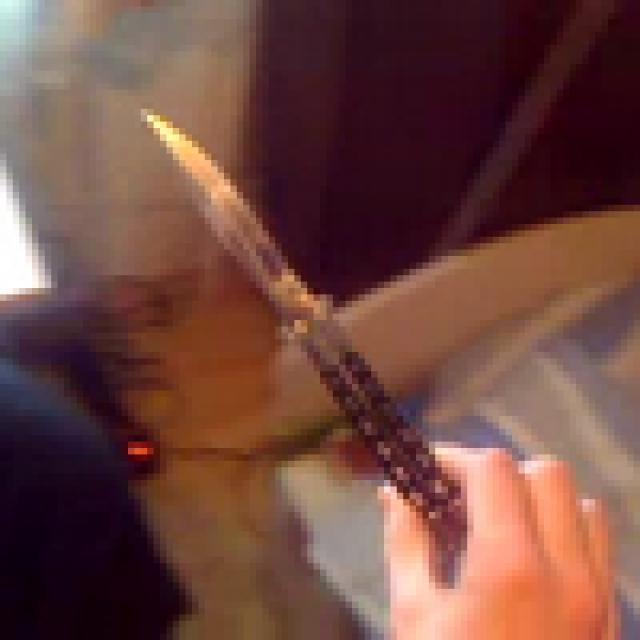knife: (102, 64, 493, 595)
